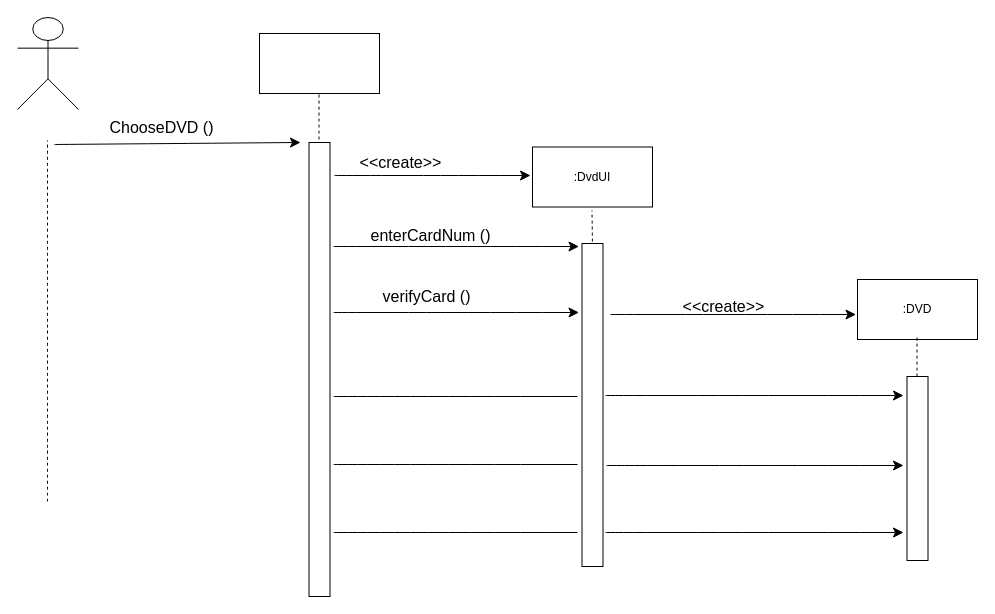
The diagram is 995 pixels wide and 614 high, and some of its shapes have lost their labels. Each missing label, with the box of its shape:
:ShopAssistant: (258, 32, 380, 94)
Customer: (16, 16, 78, 110)
